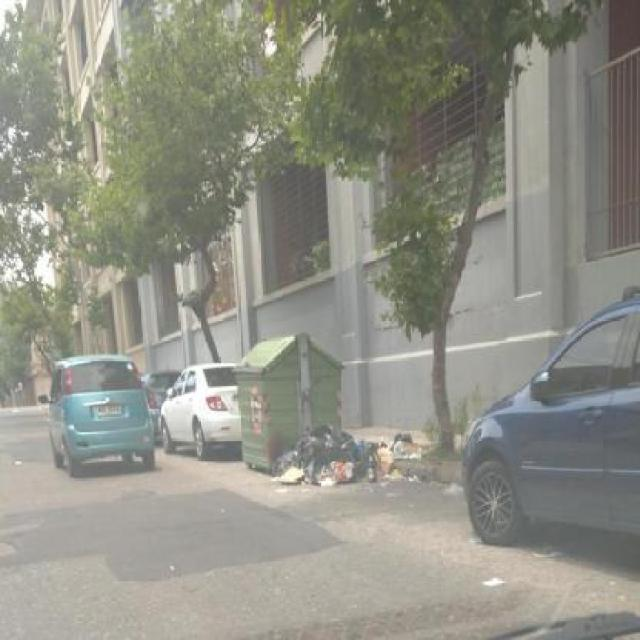garbage: (275, 420, 382, 492), (380, 409, 418, 509)
